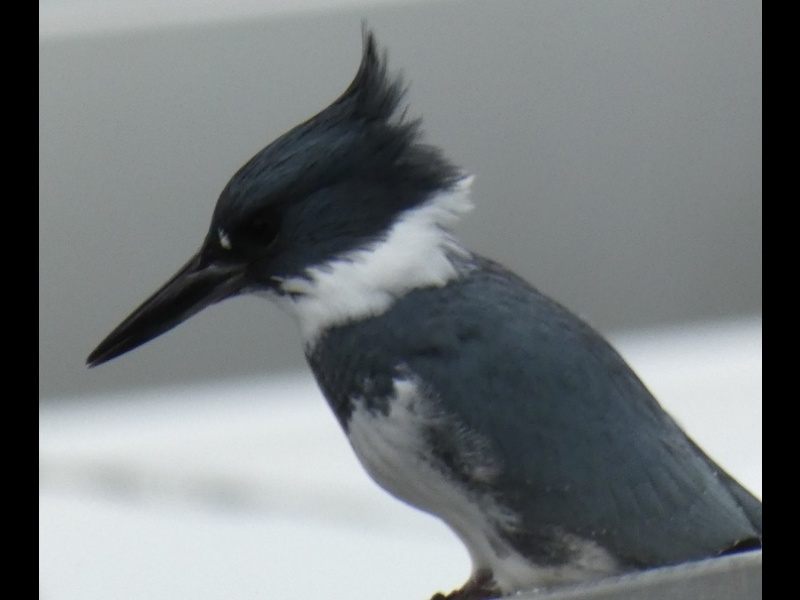kingfisher: (78, 16, 744, 589)
